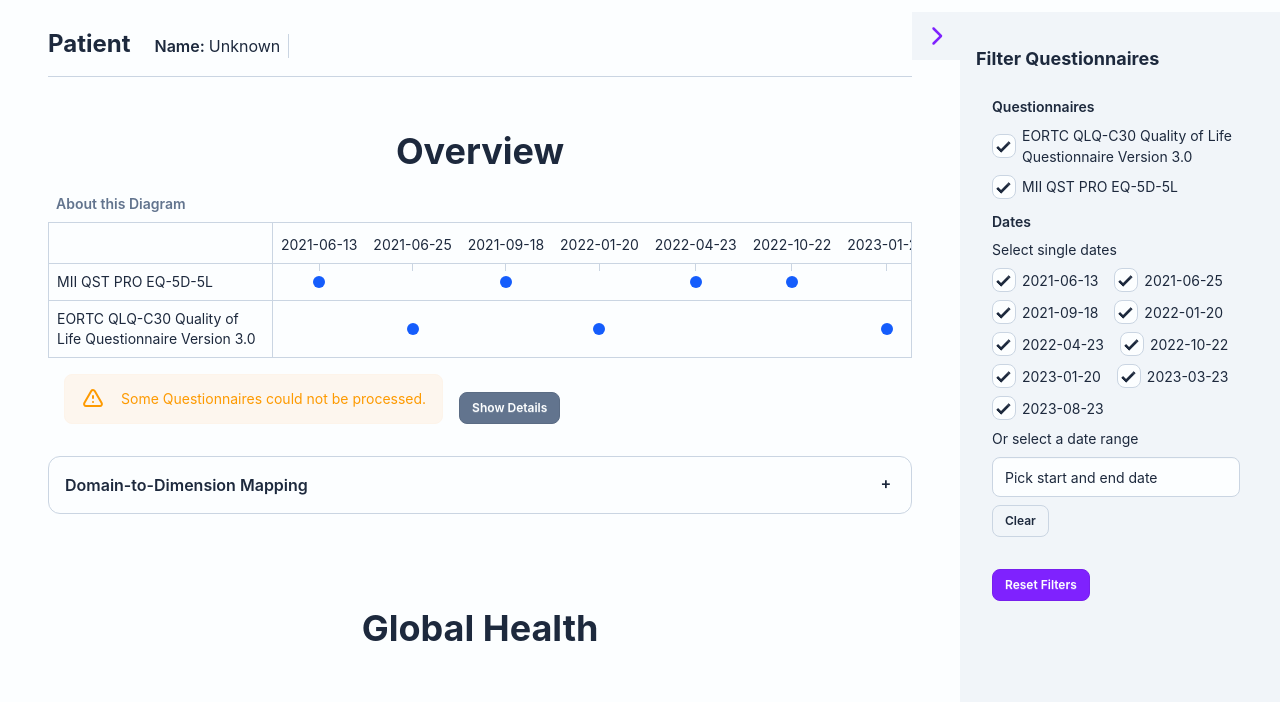
Test: App - data issues › surfaces a warning banner and reveals it via Show Details
Expected: the text "Some Questionnaires could not be processed." is shown, [121,389,426,409]
Click the button "Show Details": point(510, 408) [459,392,560,424]
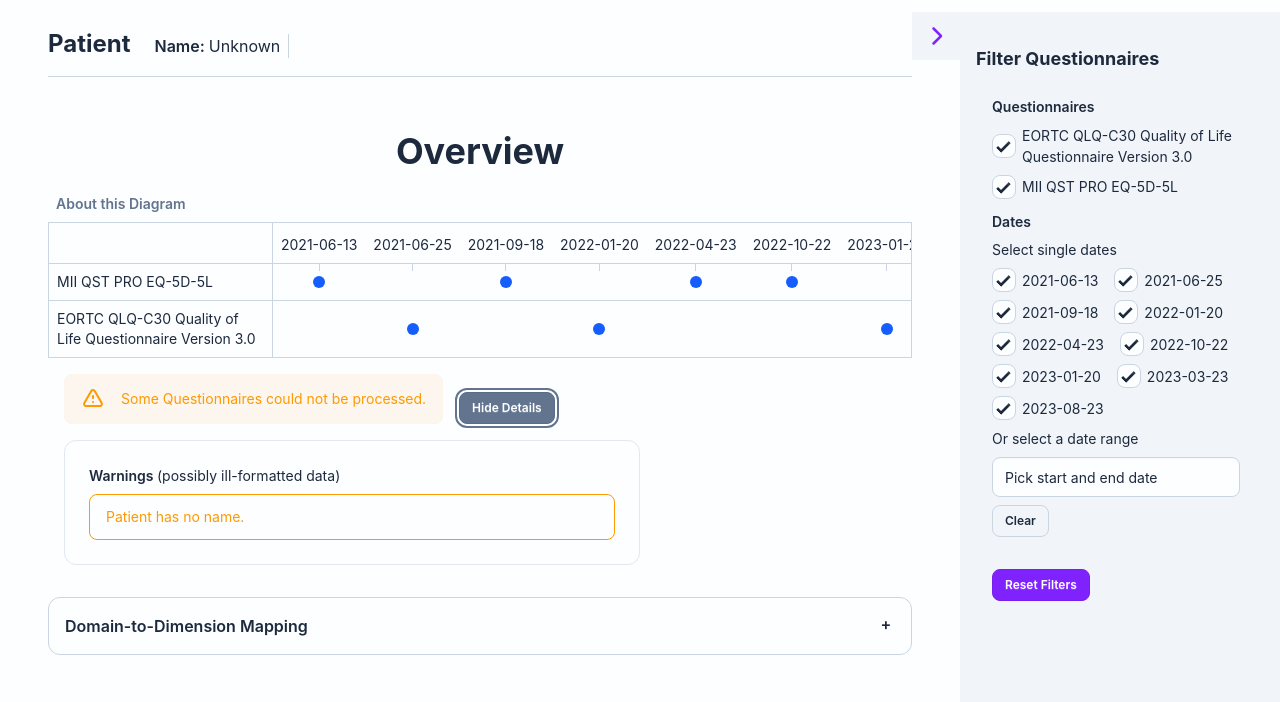
Result: the text "Patient has no name." is shown at [106,507,244,527]
